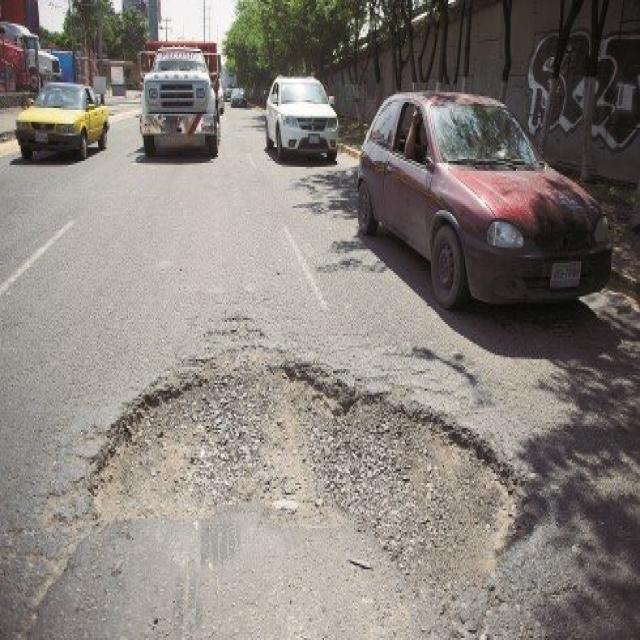Buraco: (77, 341, 534, 596)
